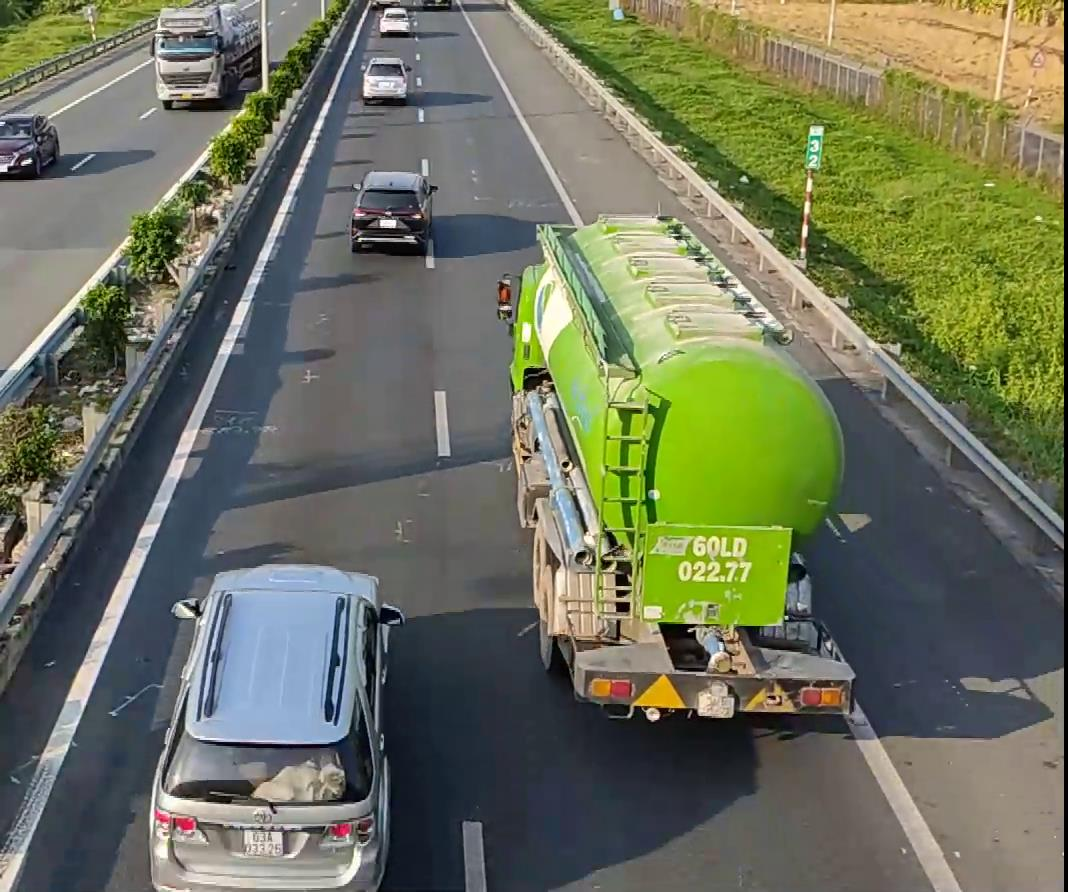car: (145, 561, 396, 888), (348, 169, 435, 253)
container: (504, 212, 853, 729), (151, 0, 264, 106)
